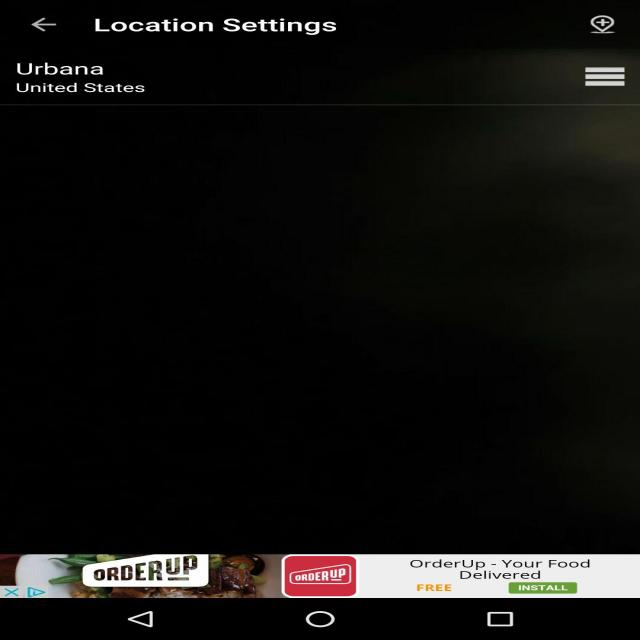button: (573, 62, 633, 93), (575, 15, 629, 38), (23, 15, 66, 40)
icon: (570, 60, 638, 93), (14, 12, 71, 43), (569, 13, 629, 40)
image: (0, 554, 640, 599)
text: (88, 16, 348, 38), (9, 60, 127, 77), (12, 81, 144, 96)
